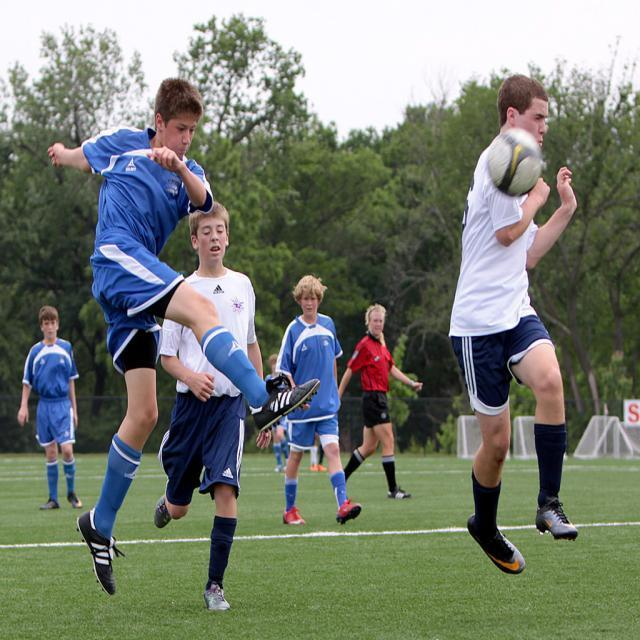football: (492, 123, 550, 210)
